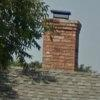Chimney: (39, 4, 85, 78)
